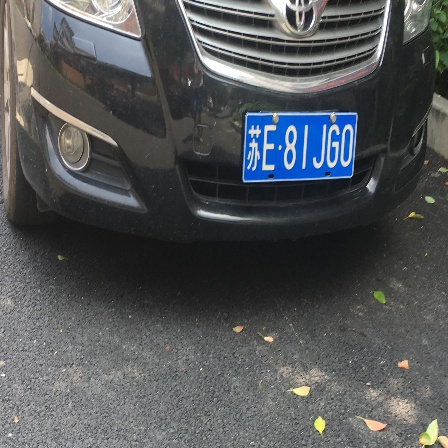plate: (243, 109, 357, 184)
